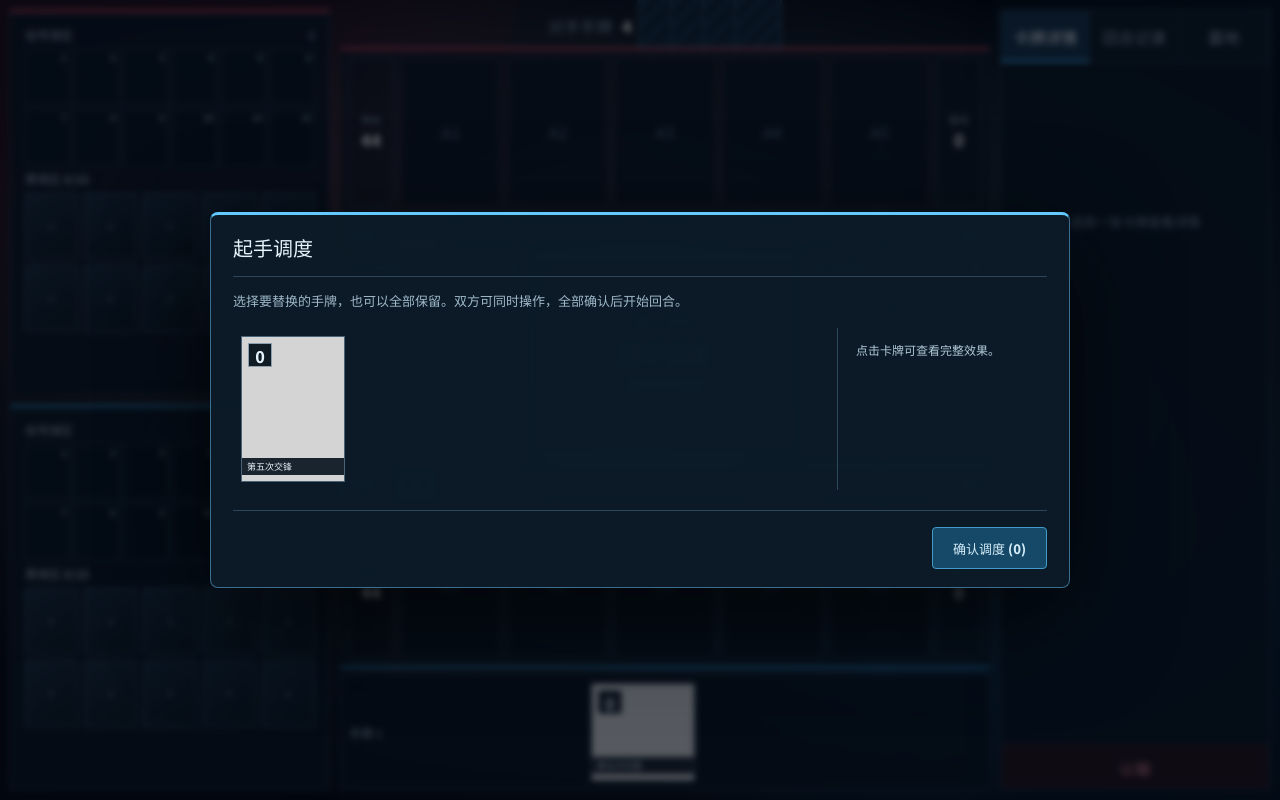
Test: Battlefield interaction state › opens an independent mulligan dialog even for the non-active player
Expected: the dialog "起手调度" is shown, top-left (210, 212), bottom-right (1070, 588)
Step 1. Click the button "确认调度 (0)" → (990, 548), box top-left (932, 527), bottom-right (1047, 569)
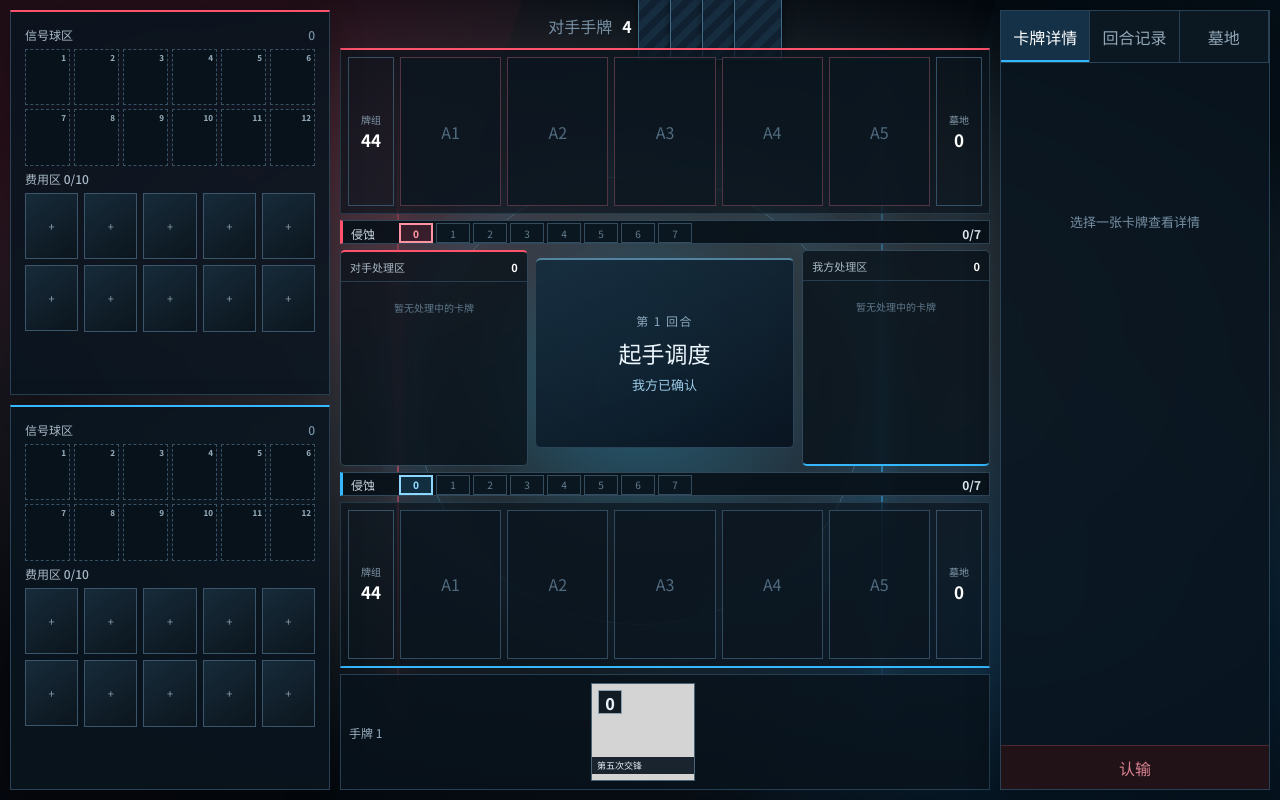
Expected: the dialog is gone
